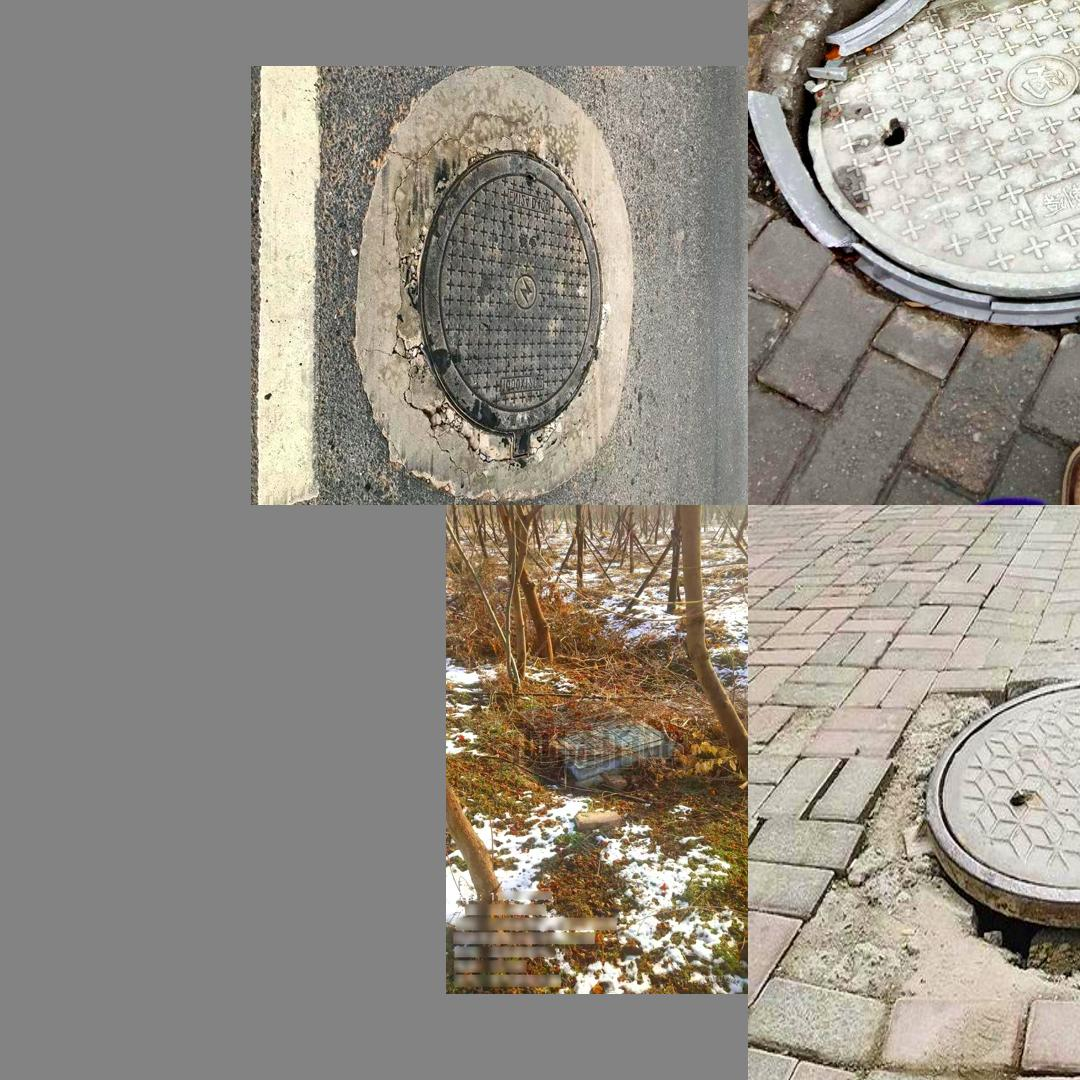circle: (356, 78, 631, 496), (753, 0, 1080, 351), (796, 657, 1080, 1044), (520, 693, 676, 784)
